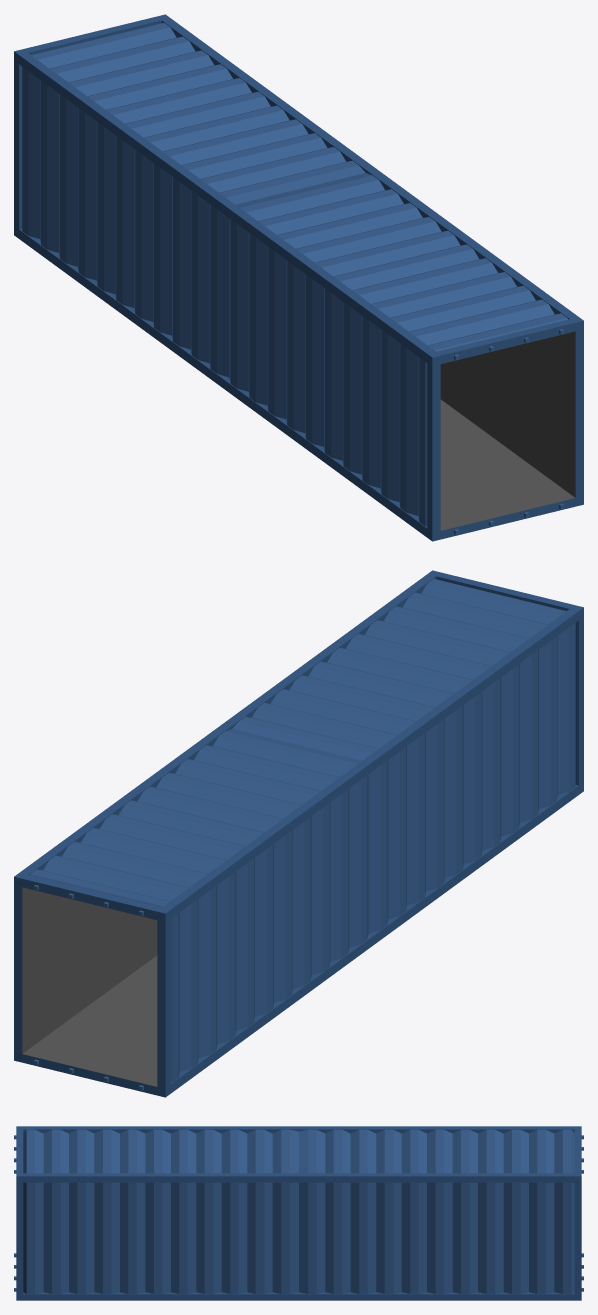
File: ShippingContainer_06.fbx
3 renders of one model, top to bottom at view 1: azimuth 30°, elevation 25°; view 2: azimuth 150°, elevation 25°; view 3: azimuth 270°, elevation 25°, orthographic. The views are drawn at different scales.
Visible parts, largest first — view 1: ShippingContainer_06; view 2: ShippingContainer_06; view 3: ShippingContainer_06.
Boxes of the visible parts, x1,y1,x2,y2 form: ShippingContainer_06: (14, 14, 583, 541); ShippingContainer_06: (14, 570, 583, 1097); ShippingContainer_06: (14, 1126, 583, 1300).
Size of the model in its own units: 250 by 290 by 1205.
